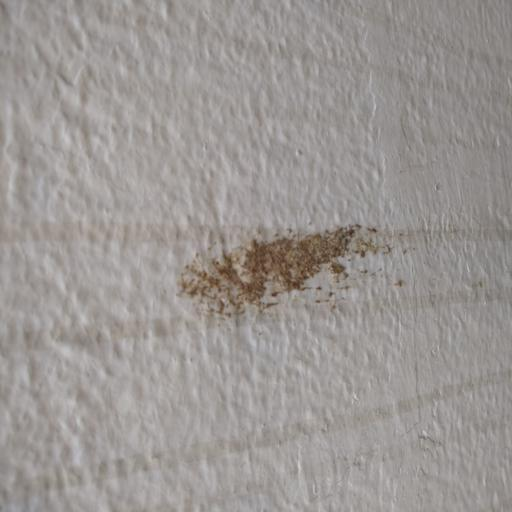stain: (150, 181, 438, 364)
